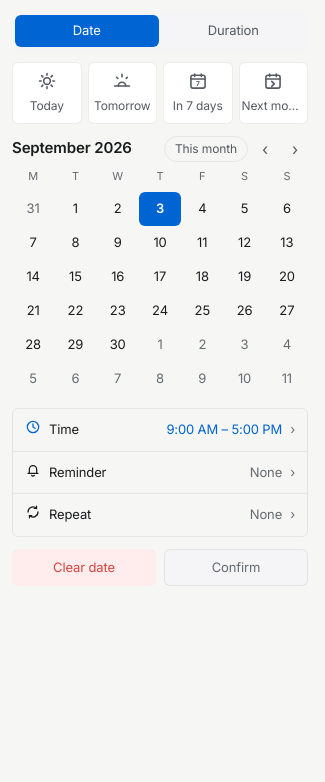
Test: choosing a time is the end of it (§13.2) › keeps an end that is already there editable
Click the button "Time 9:00 AM – 5:00 PM ›": click(224, 429) top-left (13, 409), bottom-right (307, 452)
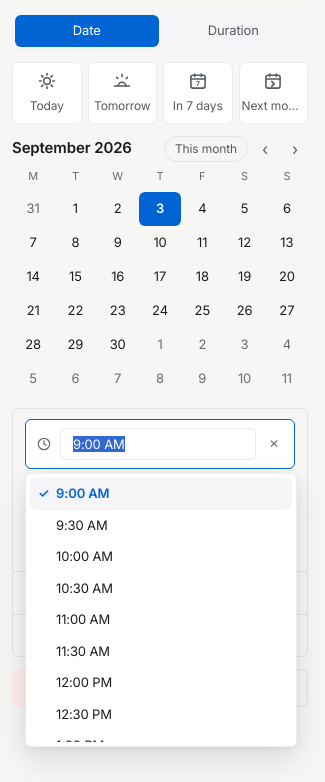
Expected: the dropdown named "Ends" holds "5:00 PM", top-left (60, 486), bottom-right (256, 518)
